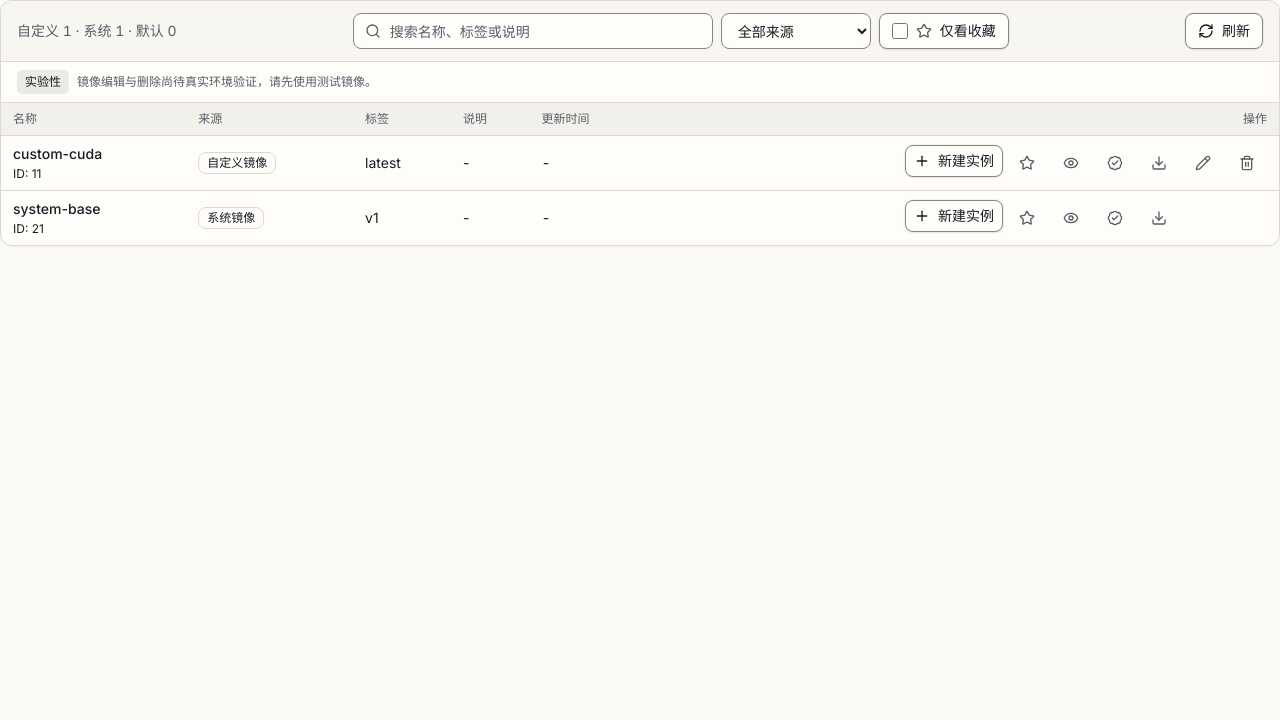
Test case: ImagesPage › edits only custom images, trims fields, and refreshes after saving
Click the button named "编辑镜像 custom-cuda" at (1203, 163), box [1183,145,1223,181]
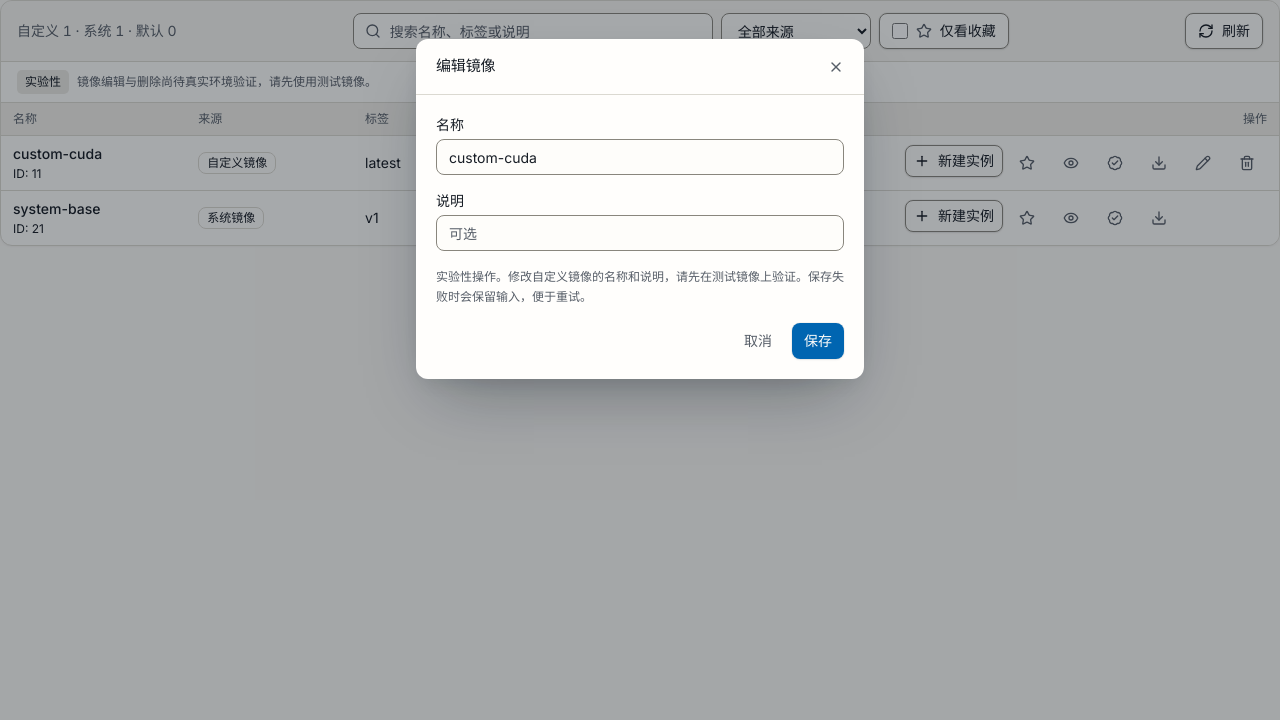
Replace the text in the field labelled "名称" with "  renamed  " at (640, 157), box [436,139,844,175]
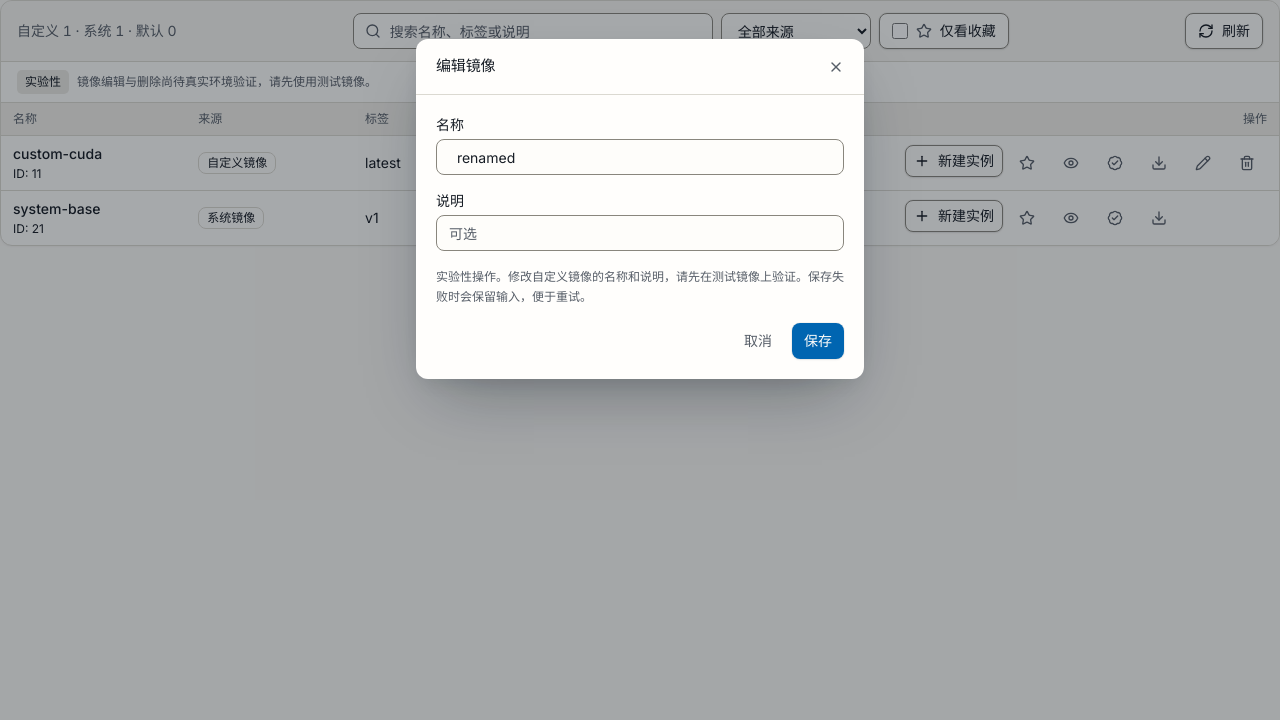
Type "  details  " into the field labelled "说明" at (640, 233), box [436,215,844,251]
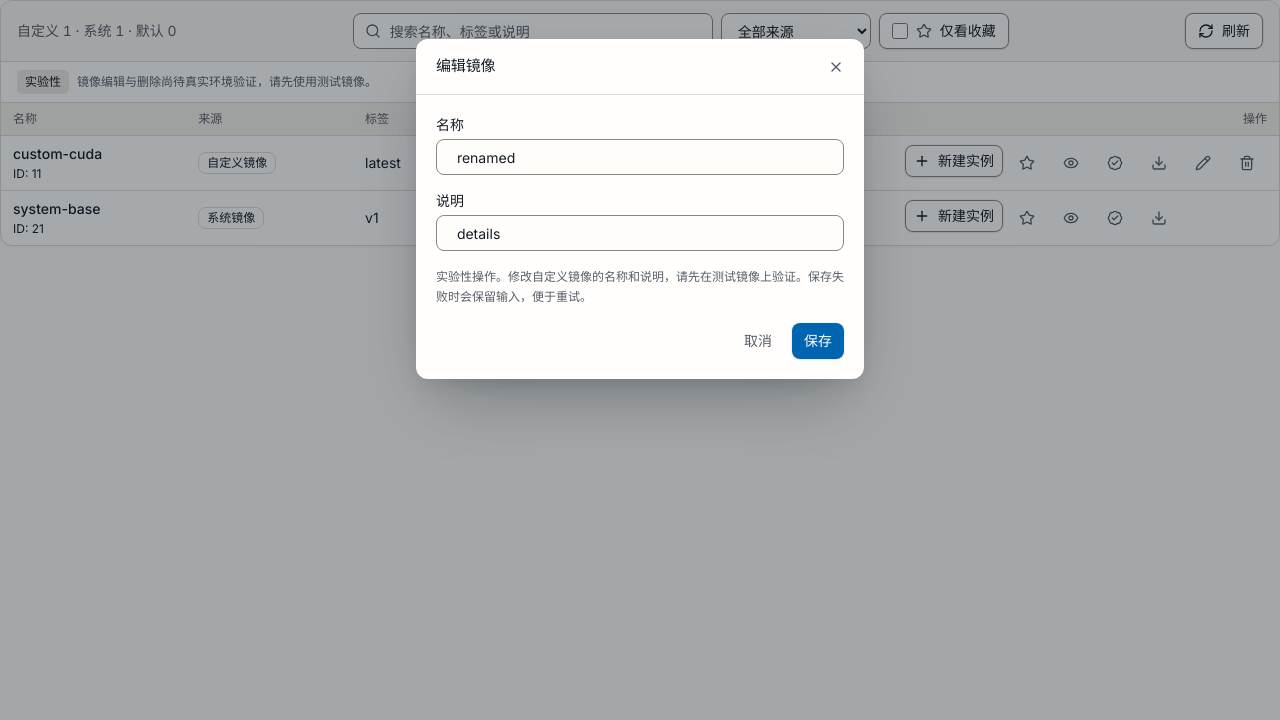
Click the button "保存" at (818, 341), box [792,323,844,359]
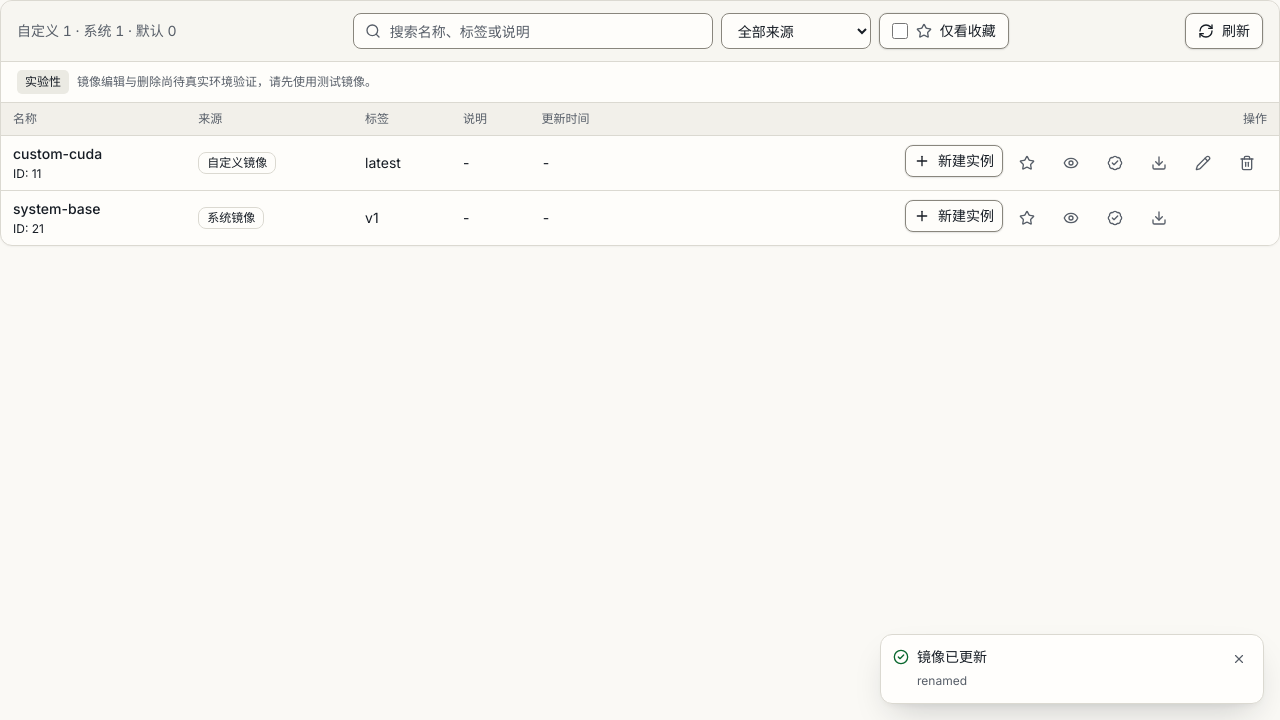
Expected: the heading "编辑镜像" is gone
